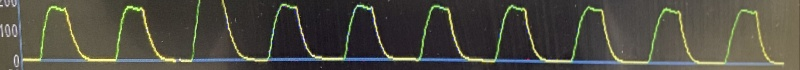normal_volume: (13, 0, 793, 69)
